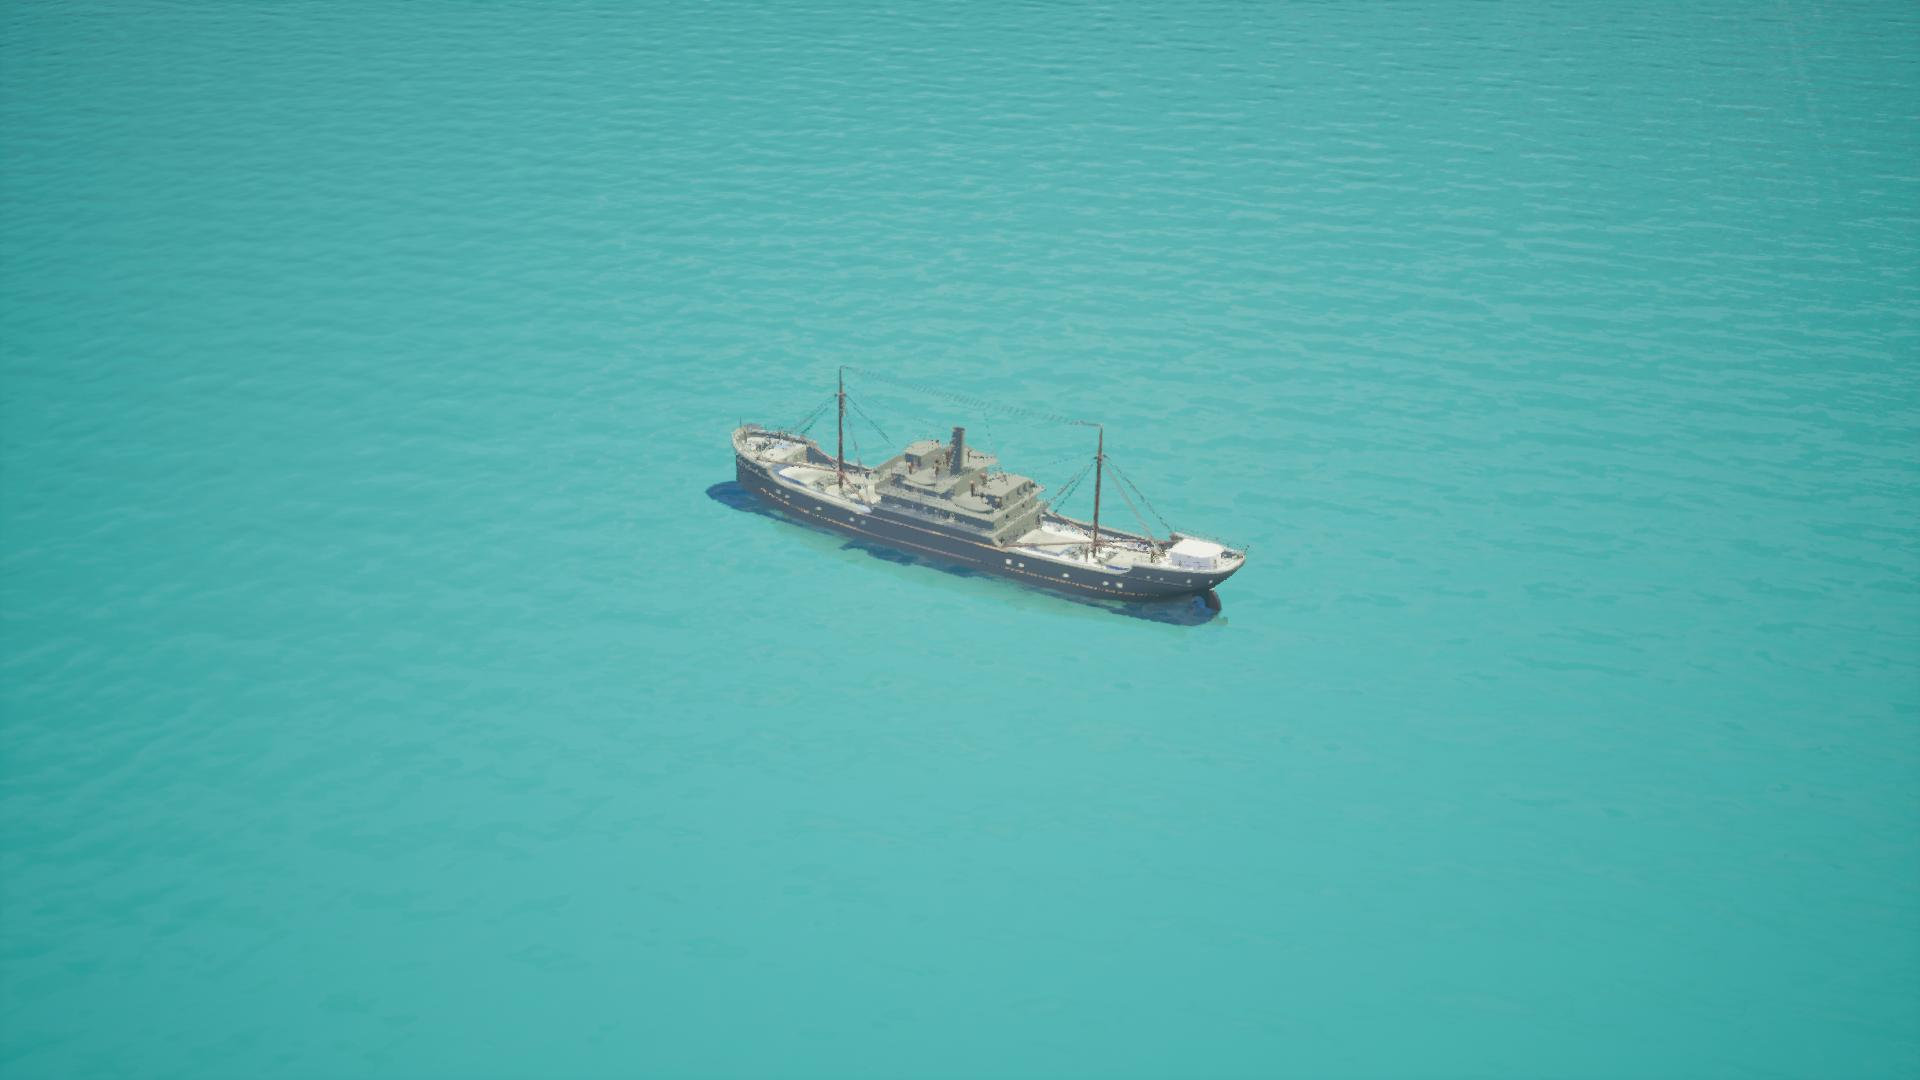Fishing Boat: (719, 402, 1247, 625)
